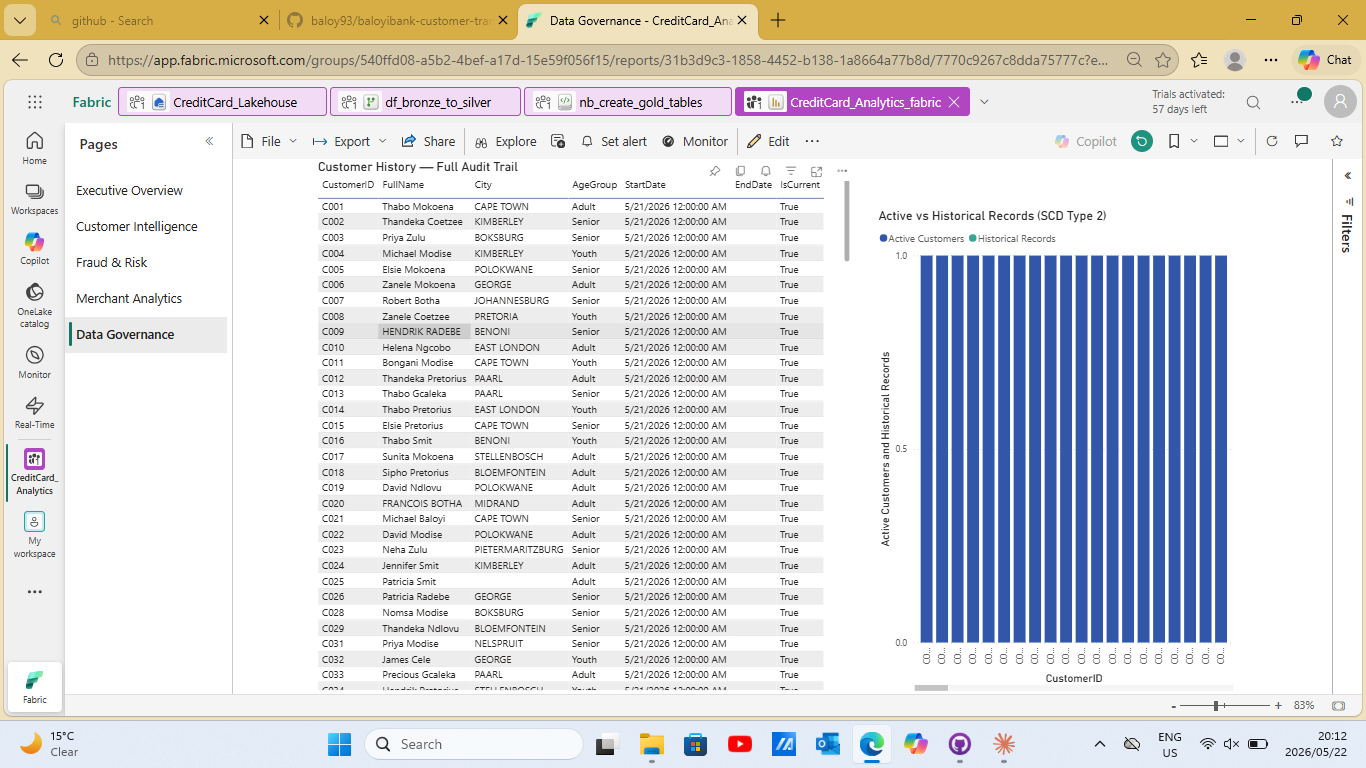

This screenshot's page, from the dashboard's own definition file:
{"tool":"powerbi","page":{"name":"Data Governance","canvas":[1280,720],"ordinal":4},"visuals":[{"type":"columnChart","title":"Active vs Historical Records (SCD Type 2)","fields":{"Category":["dim_customer.CustomerID"],"Y":["_Measures.Active Customers","_Measures.Historical Records"]},"box":[764.3,67.2,487.1,653.4],"z":0},{"type":"tableEx","title":"Customer History — Full Audit Trail","fields":{"Values":["dim_customer.CustomerID","dim_customer.FullName","dim_customer.City","dim_customer.AgeGroup","dim_customer.StartDate","dim_customer.EndDate","dim_customer.IsCurrent"]},"box":[10.1,0,725.7,719],"z":1000}]}

Visuals, with their boxes on the page's 1280x720 design canvas (x1, y1, x2, y2). These are canvas units, not pixel positions in the 1366x768 screenshot, which may show the page scaled, cropped or inside an application window:
"Active vs Historical Records (SCD Type 2)" columnChart: pyautogui.locateOnScreen(764, 67, 1251, 721)
"Customer History — Full Audit Trail" tableEx: pyautogui.locateOnScreen(10, 0, 736, 719)
